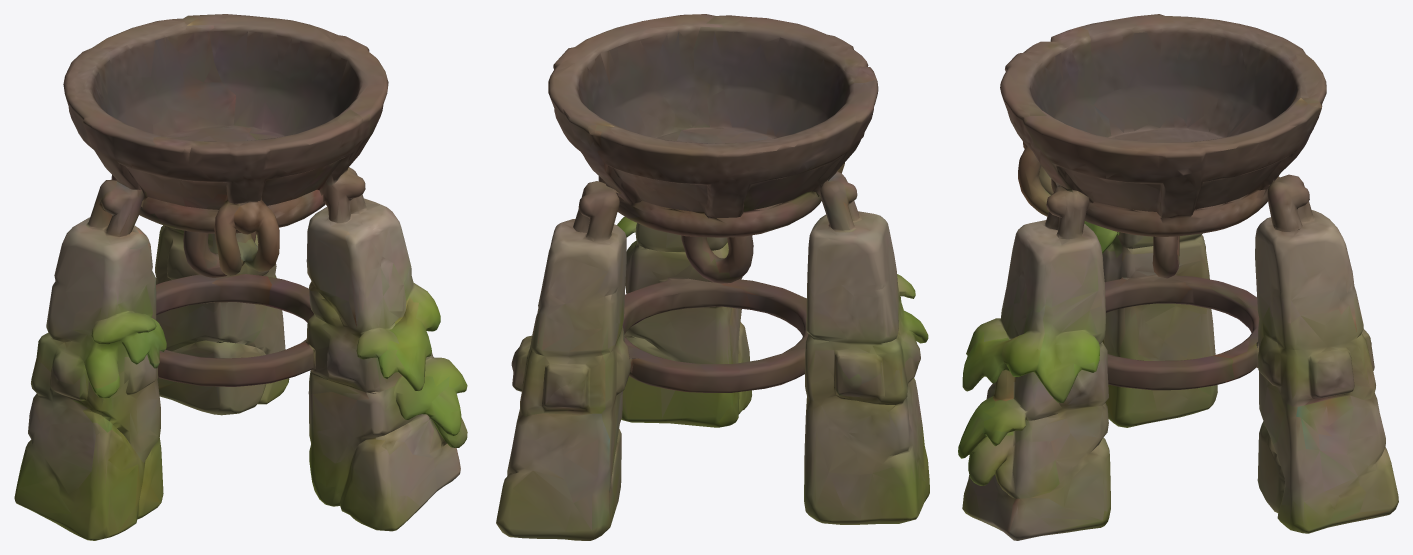
File: brasero.glb
3 renders of one model, left to right at view 1: azimuth 30°, elevation 25°; view 2: azimuth 150°, elevation 25°; view 3: azimuth 270°, elevation 25°, orthographic.
Visible parts, largest first — view 1: brasero_malla; view 2: brasero_malla; view 3: brasero_malla.
Part boxes in pixels (x1,y1,x2,y2): brasero_malla: (14,14,467,540); brasero_malla: (496,14,929,540); brasero_malla: (958,14,1398,540).
Size of the model in its own units: 0.1711 by 0.1767 by 0.1777.
Materials: 1 (1 with a texture image).
